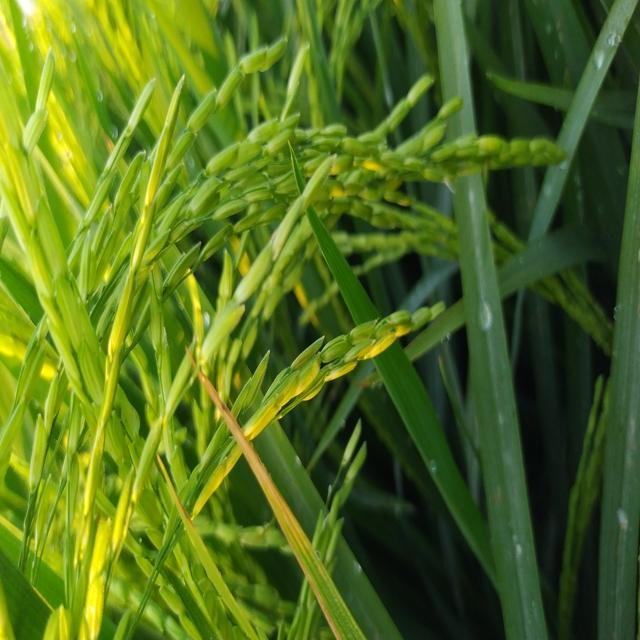Brown spot: (176, 331, 430, 640)
